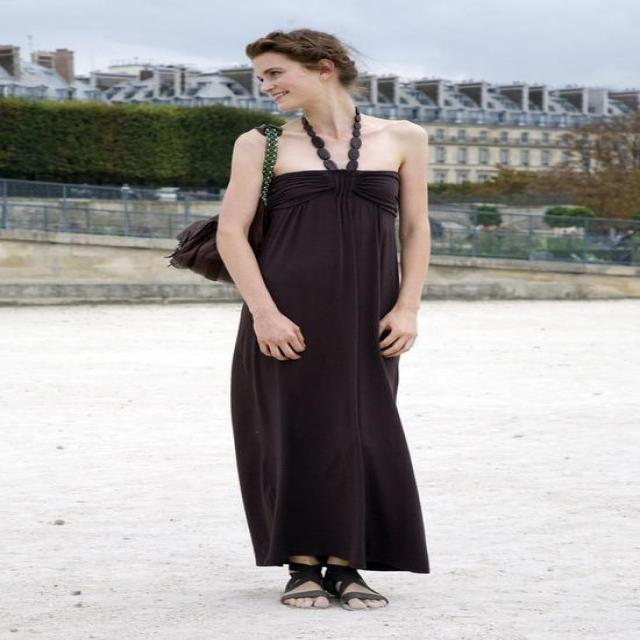dress: (230, 171, 430, 574)
